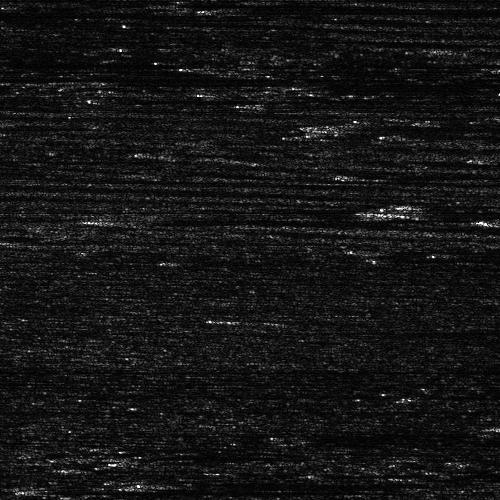object: (0, 69, 156, 90), (131, 1, 318, 16), (53, 216, 168, 227), (0, 61, 33, 90), (373, 207, 466, 216), (113, 478, 206, 487), (443, 215, 500, 226), (301, 123, 374, 128)
shadow: (0, 61, 500, 90), (72, 69, 500, 90), (224, 1, 482, 16), (111, 216, 354, 227), (160, 478, 417, 487), (420, 207, 500, 216), (338, 123, 423, 128)
